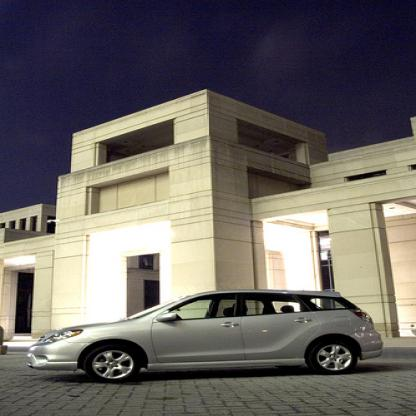car: (22, 288, 384, 383)
